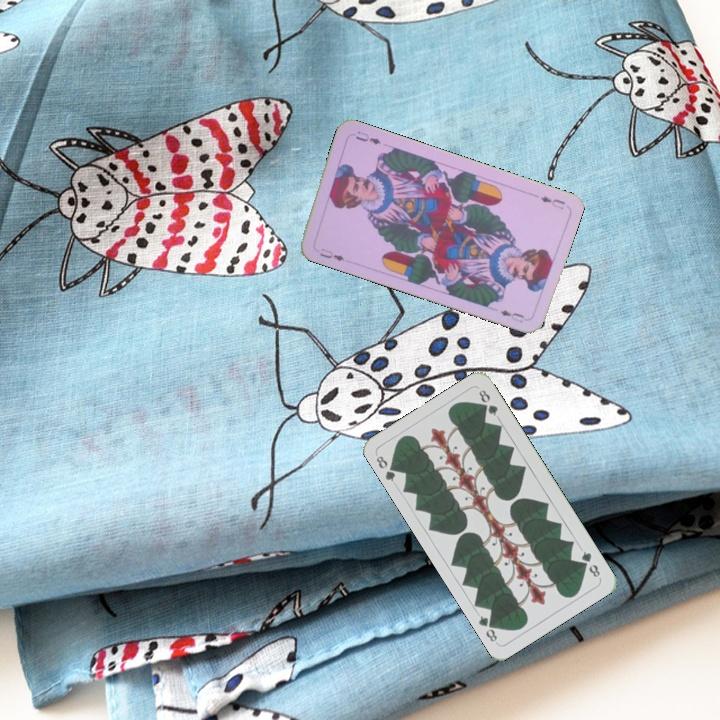EU: (316, 244, 347, 264), (537, 192, 568, 212)
G8: (372, 452, 401, 484), (577, 547, 603, 580)
